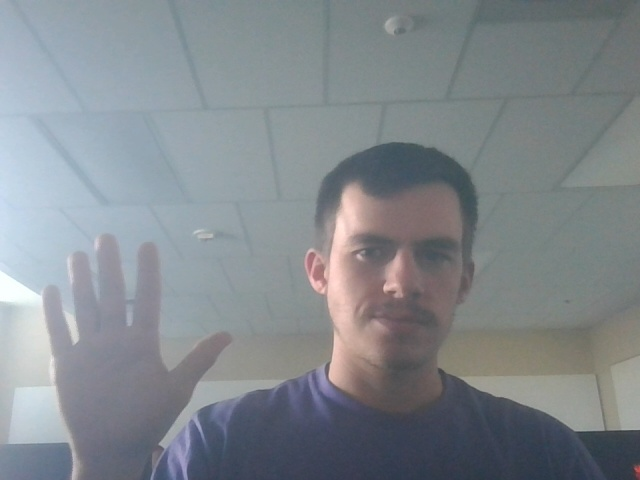hello: (30, 228, 242, 443)
